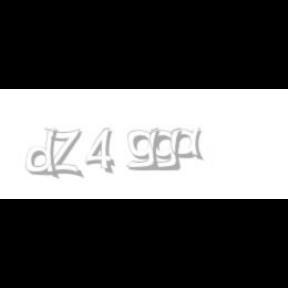4: (84, 128, 115, 174)
Z: (44, 128, 82, 178)
a: (170, 128, 208, 160)
d: (26, 128, 62, 180)
g: (148, 128, 186, 171), (126, 128, 163, 171)
